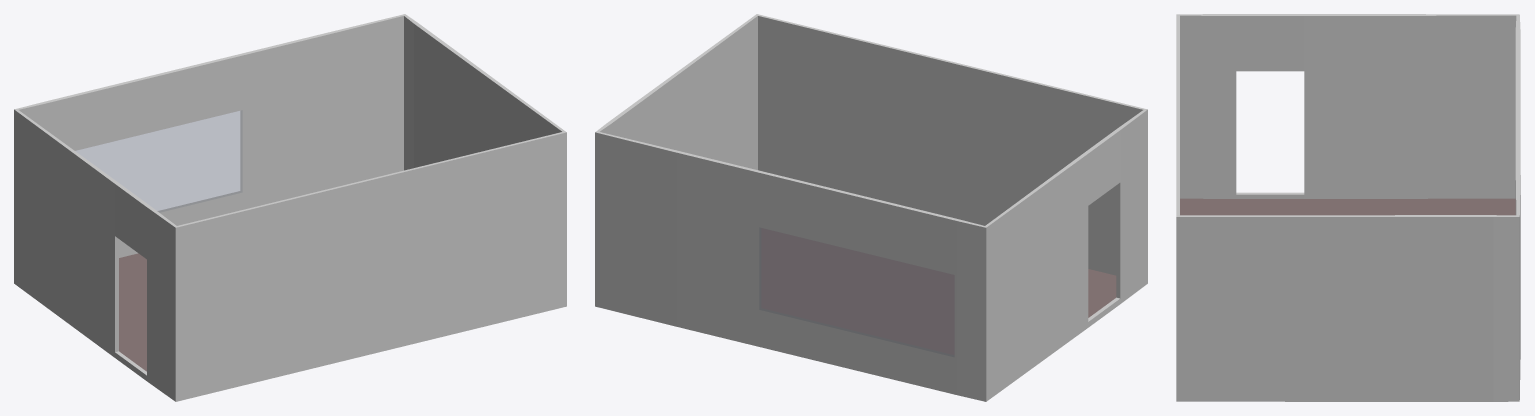
3 renders of one model, left to right at view 1: azimuth 30°, elevation 25°; view 2: azimuth 150°, elevation 25°; view 3: azimuth 270°, elevation 25°, orthographic. The views are drawn at different scales.
Visible parts, largest first — view 1: Box001; view 2: Box001; view 3: Box001.
Part boxes in pixels (<box>): Box001: <box>14,14,566,401</box>; Box001: <box>595,14,1147,401</box>; Box001: <box>1176,14,1520,401</box>.
Size of the model in its own units: 7.07 by 3.01 by 5.06.
